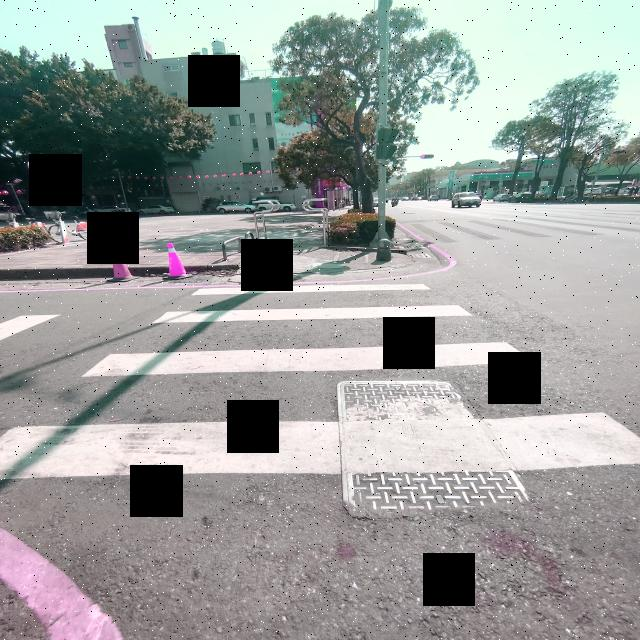zebra crossing: (0, 279, 640, 476)
